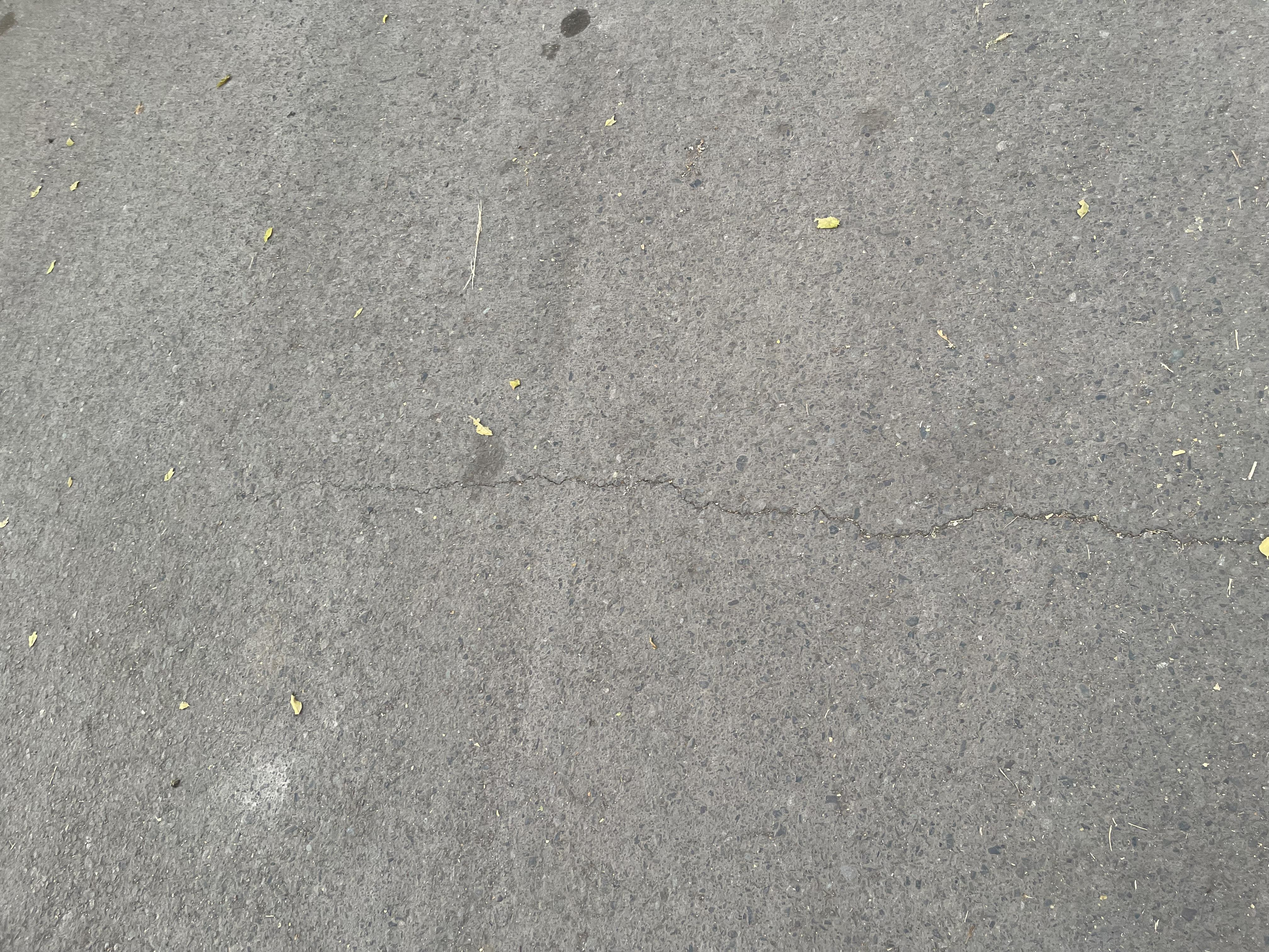GRIETA: (1014, 511, 1251, 547), (832, 504, 1013, 540), (417, 474, 618, 496), (273, 480, 417, 503), (680, 496, 830, 518), (633, 477, 681, 495)
